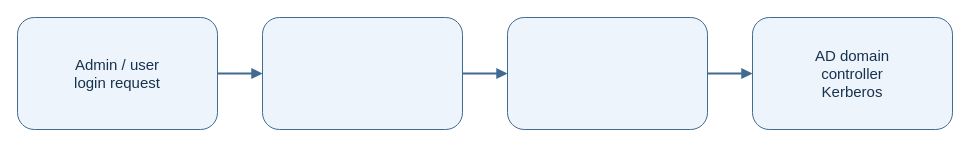
Image size: 970x147. Some labels were removed from this diagram. The shapes that lost their labels are listed below. From the top down, each one's box as (x1, y1, x2, y2) in pixels, then its label:
(262, 16, 462, 130): FortiNAC LDAP directory NetBIOS name
(506, 16, 708, 130): Winbind Domain NetBIOS + Kerberos realm
